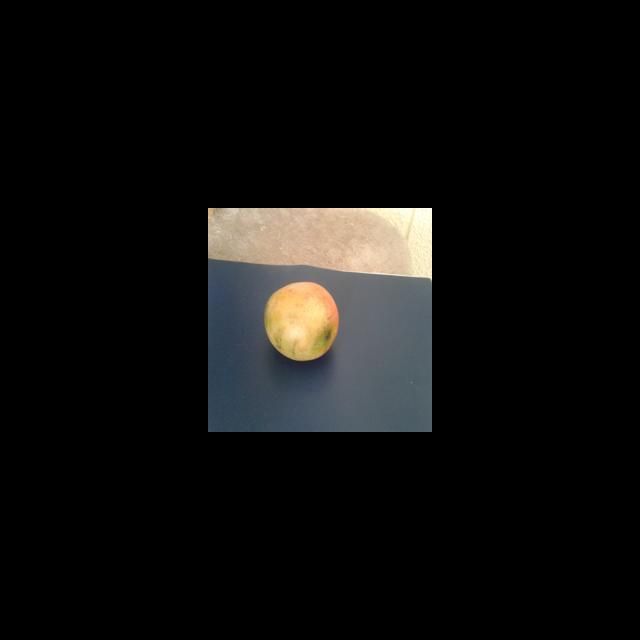Mango: (263, 281, 339, 361)
